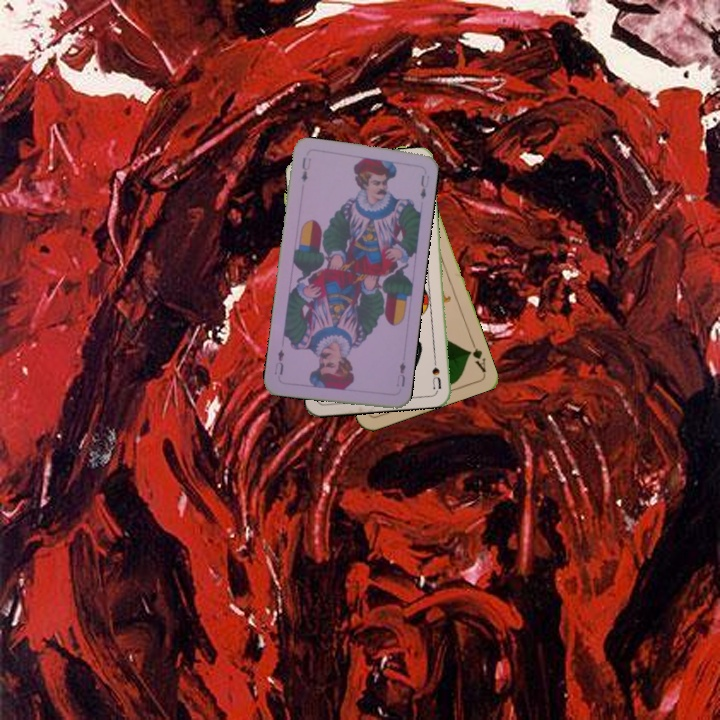EU: (392, 358, 408, 389), (297, 154, 313, 185)
GA: (464, 336, 489, 375)
SU: (428, 350, 445, 391)
